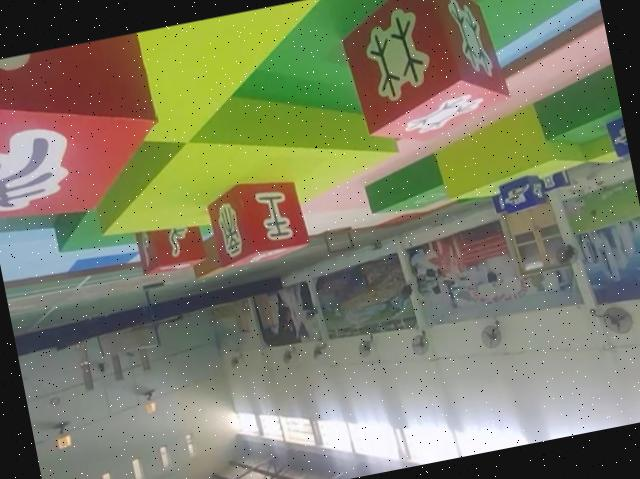R2 Fake: (0, 30, 173, 234), (202, 171, 310, 267)
R2 Real: (334, 0, 515, 147), (131, 214, 211, 281)
